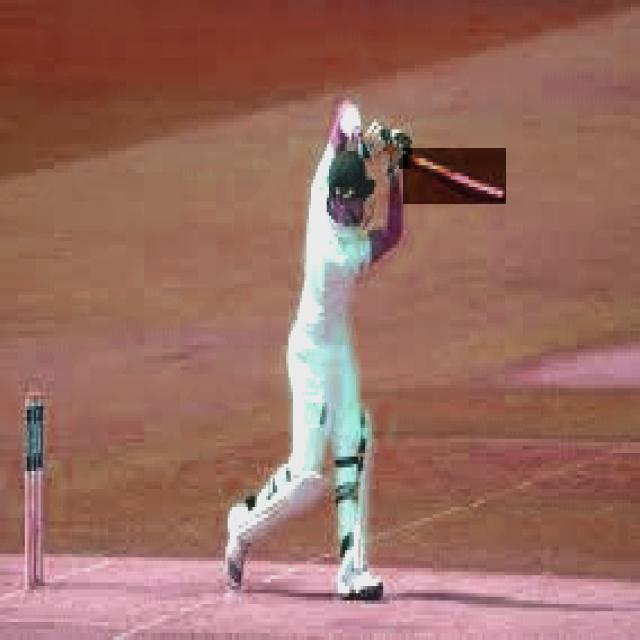bat: (404, 149, 507, 207)
